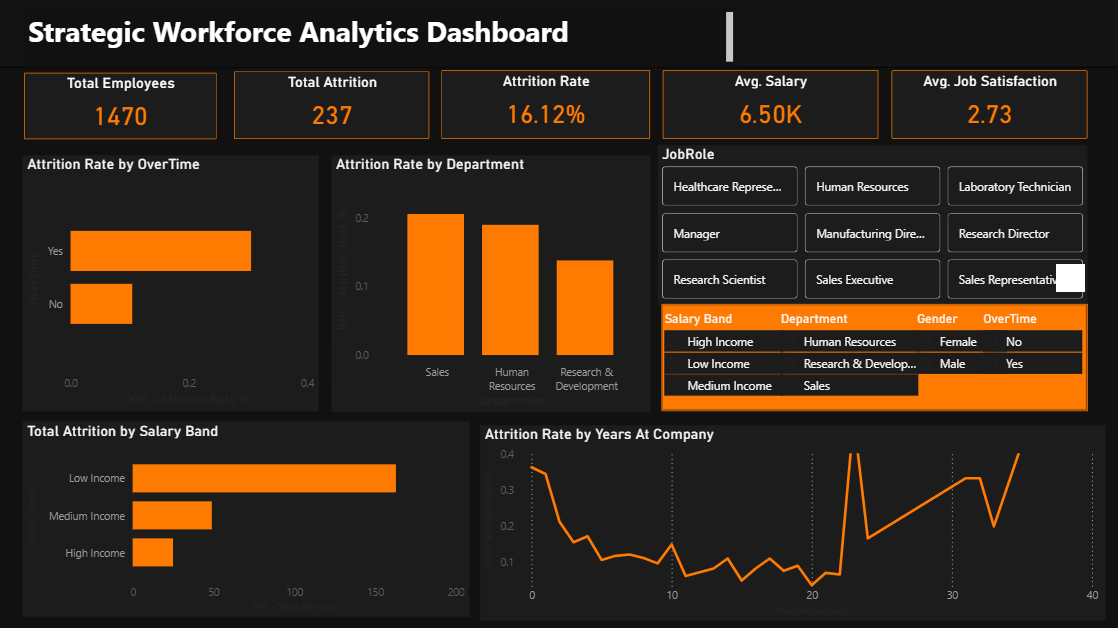

This screenshot's page, from the dashboard's own definition file:
{"tool":"powerbi","page":{"name":"Executive Workforce Overview","canvas":[1280,720],"ordinal":0},"visuals":[{"type":"card","title":"Total Employees","fields":{"Values":["WA_Fn-UseC_-HR-Employee-Attrition.KPI - Total Employees"]},"box":[28,84,220,76],"z":0},{"type":"card","title":"Attrition Rate","fields":{"Values":["WA_Fn-UseC_-HR-Employee-Attrition.KPI - Attrition Rate %"]},"box":[506,82,238,78],"z":1000},{"type":"card","title":"Total Attrition","fields":{"Values":["WA_Fn-UseC_-HR-Employee-Attrition.KPI - Total Attrition"]},"box":[268,83,223.6,76.6],"z":2000},{"type":"card","title":"Avg. Salary","fields":{"Values":["WA_Fn-UseC_-HR-Employee-Attrition.Average Salary"]},"box":[758,82,246,78],"z":3000},{"type":"card","title":"Avg. Job Satisfaction","fields":{"Values":["WA_Fn-UseC_-HR-Employee-Attrition.Avg Job Satisfaction"]},"box":[1020,82,224,78],"z":4000},{"type":"advancedSlicerVisual","fields":{"Values":["WA_Fn-UseC_-HR-Employee-Attrition.JobRole"]},"box":[753,167,491,182],"z":5000},{"type":"clusteredColumnChart","title":"Attrition Rate by Department","fields":{"Category":["WA_Fn-UseC_-HR-Employee-Attrition.Department"],"Y":["WA_Fn-UseC_-HR-Employee-Attrition.KPI - Attrition Rate %"]},"box":[380,178.3,365,293.3],"z":6000},{"type":"barChart","title":"Attrition Rate by OverTime","fields":{"Category":["WA_Fn-UseC_-HR-Employee-Attrition.OverTime"],"Y":["WA_Fn-UseC_-HR-Employee-Attrition.KPI - Attrition Rate %"]},"box":[26.9,178.3,338.2,292.7],"z":7000},{"type":"barChart","title":"Total Attrition by Salary Band","fields":{"Category":["WA_Fn-UseC_-HR-Employee-Attrition.Salary Band"],"Y":["WA_Fn-UseC_-HR-Employee-Attrition.KPI - Total Attrition"]},"box":[26.7,483.3,510,223.3],"z":8000},{"type":"listSlicer","fields":{"Values":["WA_Fn-UseC_-HR-Employee-Attrition.Gender"]},"box":[1120,378.6,124.3,105.7],"z":9000},{"type":"listSlicer","fields":{"Values":["WA_Fn-UseC_-HR-Employee-Attrition.OverTime"]},"box":[663.8,27,165.6,266.3],"z":10000},{"type":"lineChart","title":"Attrition Rate by Years At Company","fields":{"Category":["WA_Fn-UseC_-HR-Employee-Attrition.YearsAtCompany"],"Y":["WA_Fn-UseC_-HR-Employee-Attrition.KPI - Attrition Rate %"]},"box":[550,487.1,714.3,222.9],"z":11000},{"type":"shape","box":[0,0,1280,78.3],"z":12000},{"type":"textbox","box":[28.3,10,815,68.3],"z":13000},{"type":"shape","box":[757,349,487,122],"z":16000},{"type":"listSlicer","fields":{"Values":["WA_Fn-UseC_-HR-Employee-Attrition.Gender"]},"box":[1108.2,338.2,134.5,121.8],"z":17000},{"type":"listSlicer","fields":{"Values":["WA_Fn-UseC_-HR-Employee-Attrition.Salary Band"]},"box":[755.5,337.9,215.5,122.7],"z":18000},{"type":"listSlicer","fields":{"Values":["WA_Fn-UseC_-HR-Employee-Attrition.Department"]},"box":[919.1,338.2,200,121.8],"z":19000}]}

Visuals, with their boxes in screenshot pixels (x1, y1, x2, y2), scaled from the page's 1280x720 canvas onto the 1118x628 screenshot:
"Total Employees" card: [24,73,217,140]
"Attrition Rate" card: [442,72,650,140]
"Total Attrition" card: [234,72,429,139]
"Avg. Salary" card: [662,72,877,140]
"Avg. Job Satisfaction" card: [891,72,1087,140]
advancedSlicerVisual - WA_Fn-UseC_-HR-Employee-Attrition.JobRole: [658,146,1087,304]
"Attrition Rate by Department" clusteredColumnChart: [332,156,651,411]
"Attrition Rate by OverTime" barChart: [23,156,319,411]
"Total Attrition by Salary Band" barChart: [23,422,469,616]
listSlicer - WA_Fn-UseC_-HR-Employee-Attrition.Gender: [978,330,1087,422]
listSlicer - WA_Fn-UseC_-HR-Employee-Attrition.OverTime: [580,24,724,256]
"Attrition Rate by Years At Company" lineChart: [480,425,1104,619]
shape: [0,0,1117,68]
textbox: [25,9,737,68]
shape: [661,304,1087,411]
listSlicer - WA_Fn-UseC_-HR-Employee-Attrition.Gender: [968,295,1085,401]
listSlicer - WA_Fn-UseC_-HR-Employee-Attrition.Salary Band: [660,295,848,402]
listSlicer - WA_Fn-UseC_-HR-Employee-Attrition.Department: [803,295,977,401]
